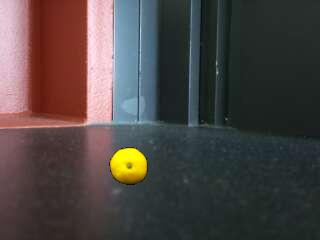Lemon: (110, 148, 150, 186)
